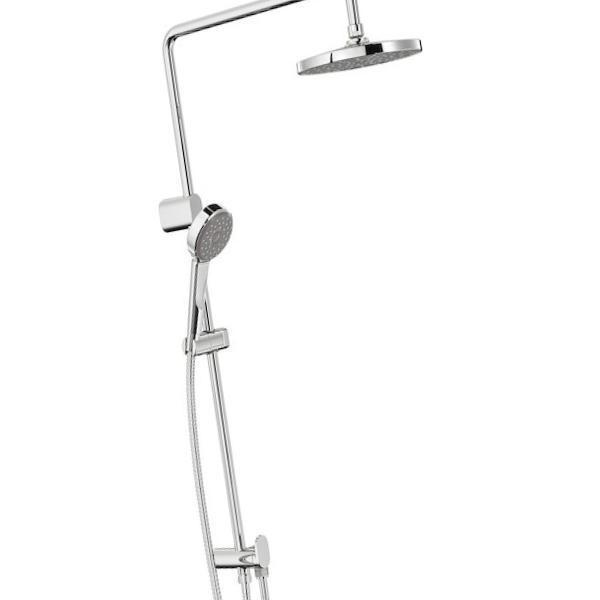Ducha: (149, 0, 426, 599)
